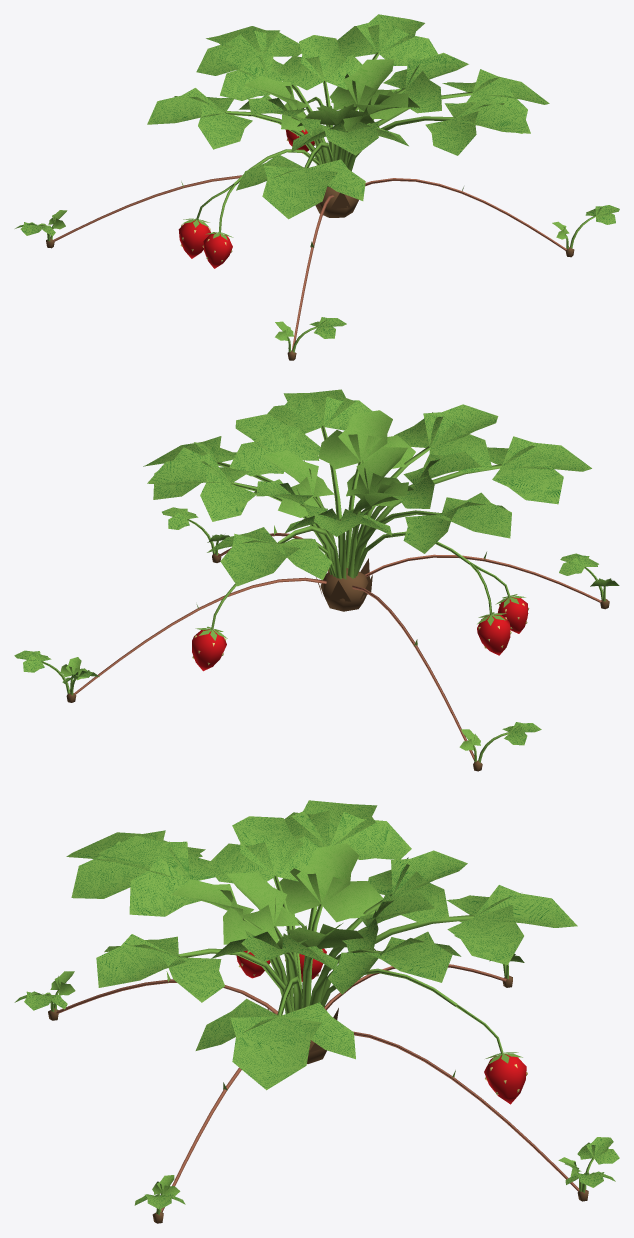
File: strawberry_s6_runners.obj
The picture shows the model from 3 angles, top to bottom: view 1: azimuth 30°, elevation 25°; view 2: azimuth 150°, elevation 25°; view 3: azimuth 270°, elevation 25°; orthographic projection. The views are drawn at different scales.
Visible parts, largest first — view 1: Leaves, Runners, Fruits, Crown; view 2: Leaves, Runners, Fruits, Crown; view 3: Leaves, Runners, Fruits.
Boxes of the visible parts, bbox=[...] form: Leaves: bbox=[147, 14, 549, 219]; Runners: bbox=[15, 88, 619, 360]; Fruits: bbox=[178, 97, 329, 268]; Crown: bbox=[315, 187, 358, 217]; Leaves: bbox=[143, 389, 591, 586]; Runners: bbox=[14, 507, 619, 771]; Fruits: bbox=[192, 531, 529, 671]; Crown: bbox=[316, 558, 372, 611]; Leaves: bbox=[66, 800, 577, 1090]; Runners: bbox=[14, 920, 619, 1223]; Fruits: bbox=[236, 917, 527, 1104].
Size of the model in its own units: 1.03 by 0.3883 by 0.9029.
